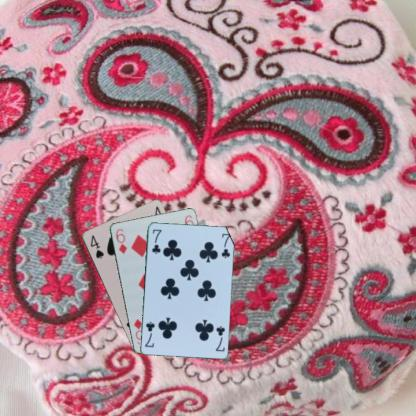4s: (87, 232, 105, 260)
6d: (114, 226, 128, 255)
7c: (149, 226, 162, 255), (213, 323, 226, 352)
